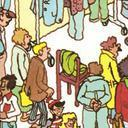waldo: (45, 96, 65, 120)
